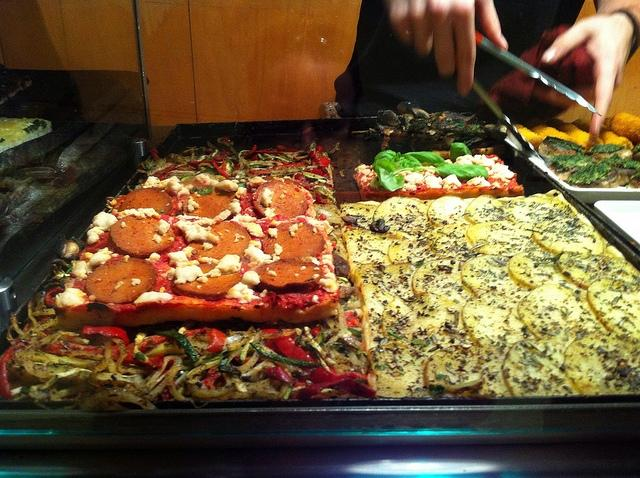bell pepper: (272, 336, 378, 398), (291, 372, 368, 399), (0, 342, 30, 400), (82, 325, 130, 347), (404, 150, 445, 166), (250, 163, 306, 174), (202, 328, 226, 353), (264, 366, 294, 384), (138, 334, 166, 352), (45, 287, 65, 308), (258, 153, 296, 163), (303, 168, 330, 182), (152, 163, 179, 176), (213, 162, 232, 180), (189, 160, 223, 170), (202, 369, 220, 386), (344, 311, 360, 326), (123, 352, 142, 364), (214, 148, 228, 160), (306, 150, 318, 164), (135, 352, 149, 364), (244, 145, 256, 158), (277, 145, 299, 152), (318, 156, 333, 166), (149, 149, 161, 159), (59, 340, 71, 350)
